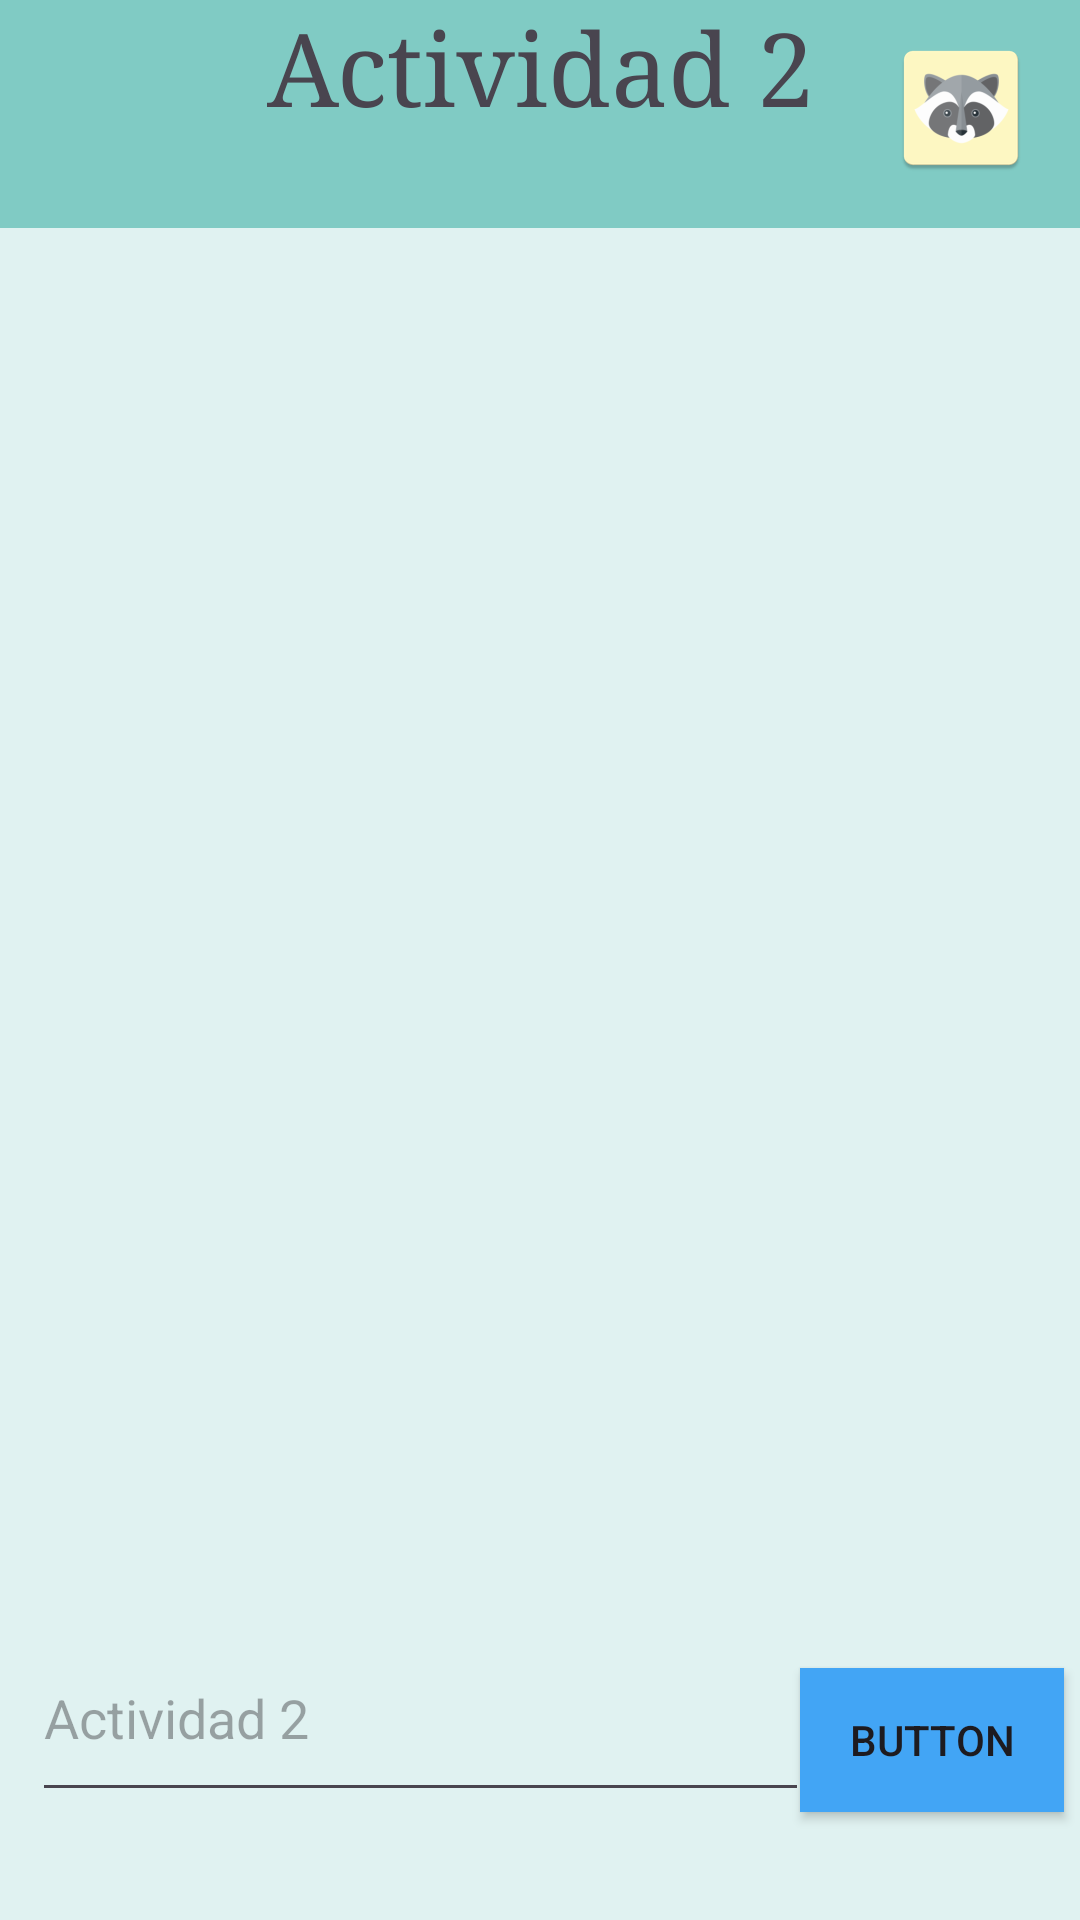

Point at icon controls on the screen. Image size 1080x1920, points as (x=x, y=y).
mapache: (x=961, y=109)
